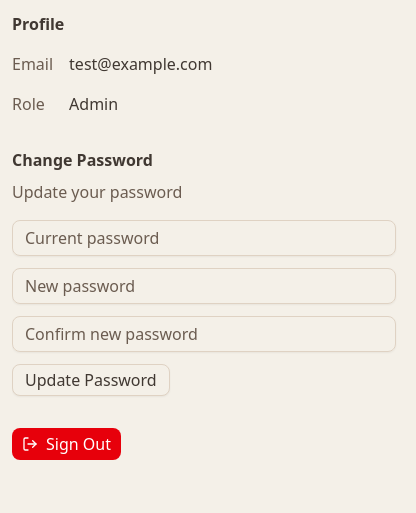
Test: AccountSettingsPage › shows error when passwords do not match
This screenshot has width=416, height=513.
Type "oldpass123" into the password field with placeholder "Current password" at (204, 238), box [12,220,396,256]
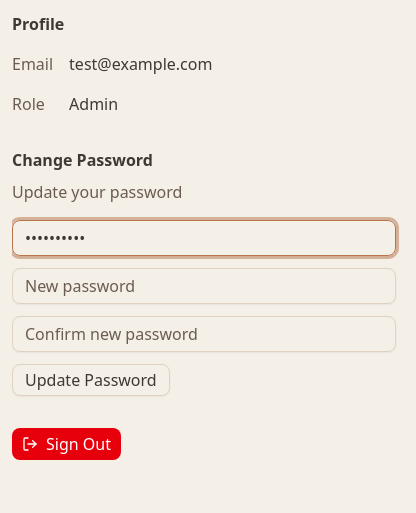
Type "newpass123" into the password field with placeholder "New password" at (204, 286), box [12,268,396,304]
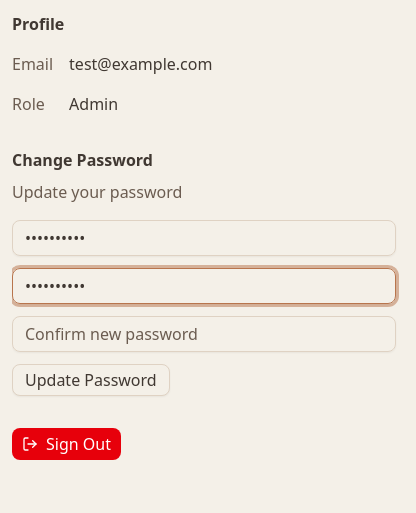
Type "different123" into the password field with placeholder "Confirm new password" at (204, 334), box [12,316,396,352]
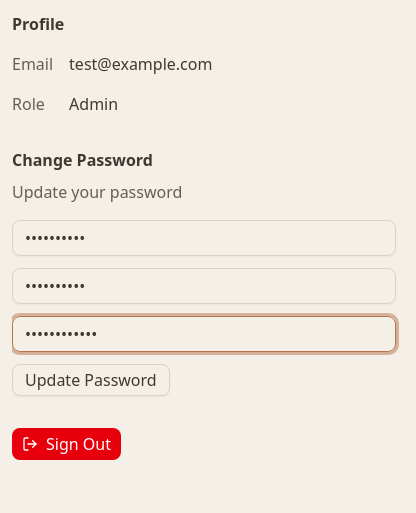
Click the button "Update Password" at (91, 380), box [12,364,170,396]
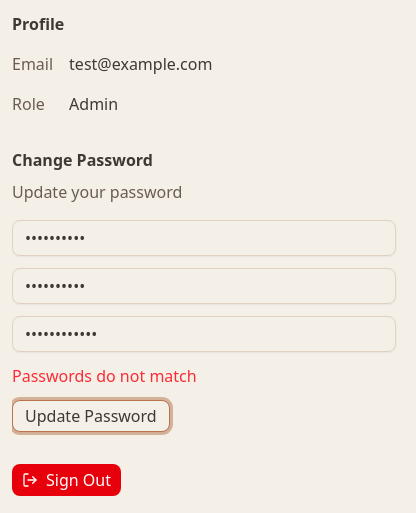
Expected: the text "Passwords do not match" is shown, [12,365,197,387]
